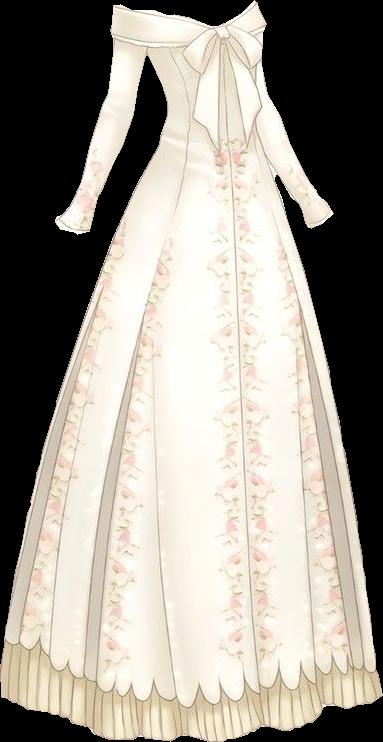Bodice: (146, 8, 266, 151)
Hemline: (0, 692, 382, 741)
Neckline: (146, 8, 247, 34)
Skirt: (1, 144, 382, 740)
Sleeve: (55, 4, 146, 234)
Sleeveline: (140, 8, 154, 56)
